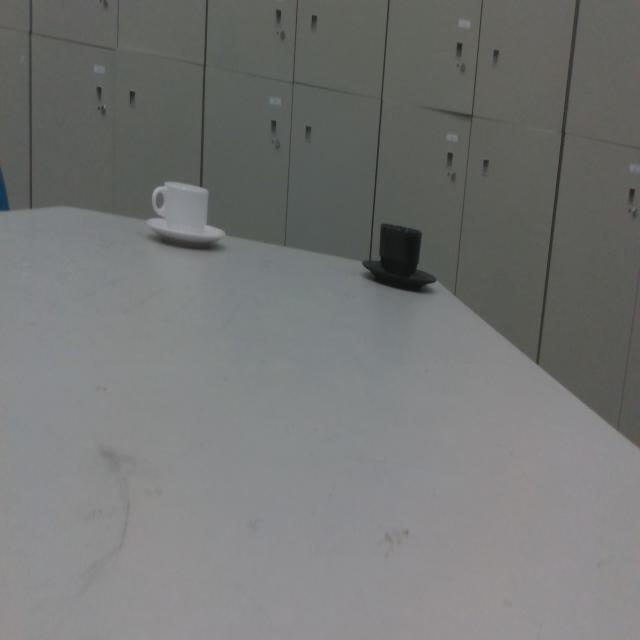black: (362, 218, 440, 294)
white: (143, 179, 227, 250)
